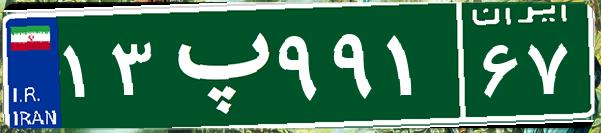1: (385, 28, 445, 110), (57, 26, 110, 107)
3: (110, 28, 158, 105)
6: (475, 38, 525, 113)
7: (525, 38, 570, 115)
9: (273, 28, 330, 110), (330, 28, 385, 110)
پ: (158, 15, 273, 115)
